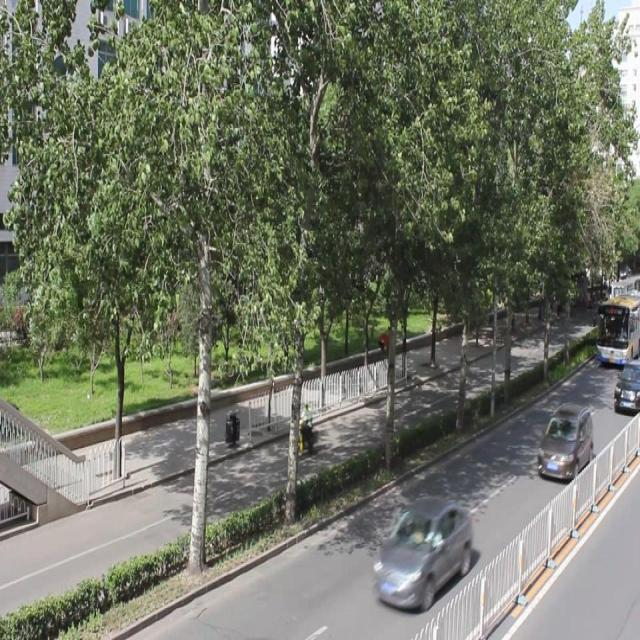car: (374, 492, 471, 609), (536, 399, 592, 480)
